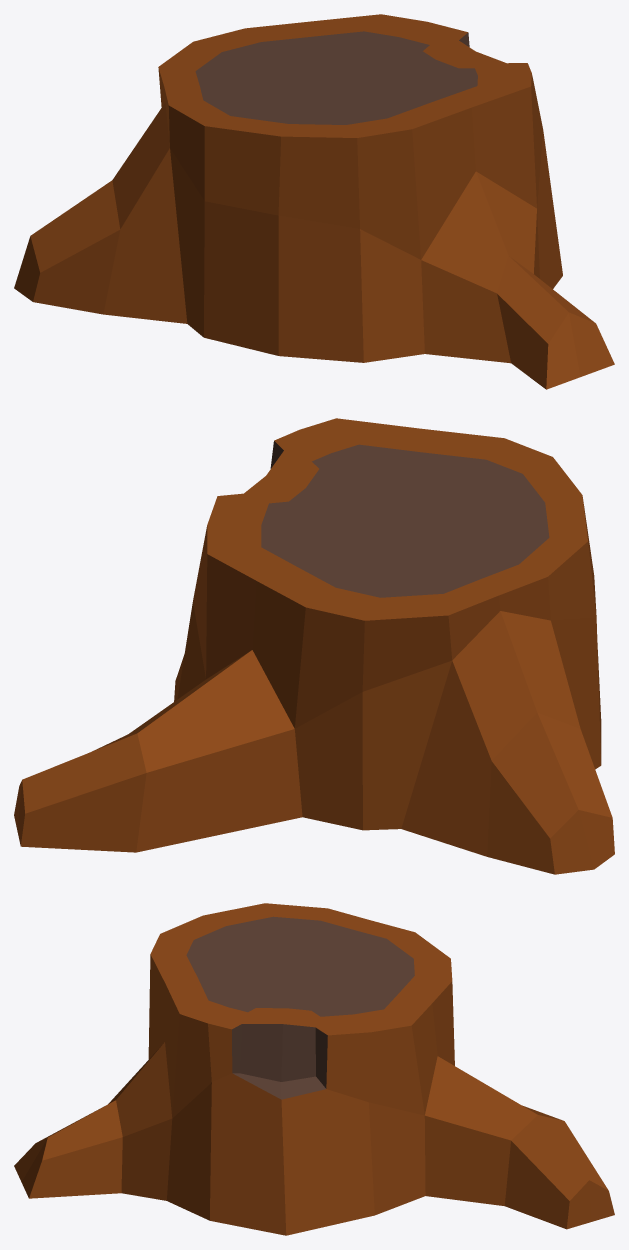
Rendered from stump-1.glb.
3 views of the same model, one above another, from view 1: azimuth 30°, elevation 25°; view 2: azimuth 150°, elevation 25°; view 3: azimuth 270°, elevation 25° (orthographic). The views are drawn at different scales.
Visible parts, largest first — view 1: stump-1; view 2: stump-1; view 3: stump-1.
Boxes of the visible parts, x1,y1,x2,y2 form: stump-1: [14, 14, 614, 389]; stump-1: [14, 418, 614, 874]; stump-1: [14, 903, 614, 1235].
Bounding box in the file's own units: 1.74 × 0.7841 × 2.27.
